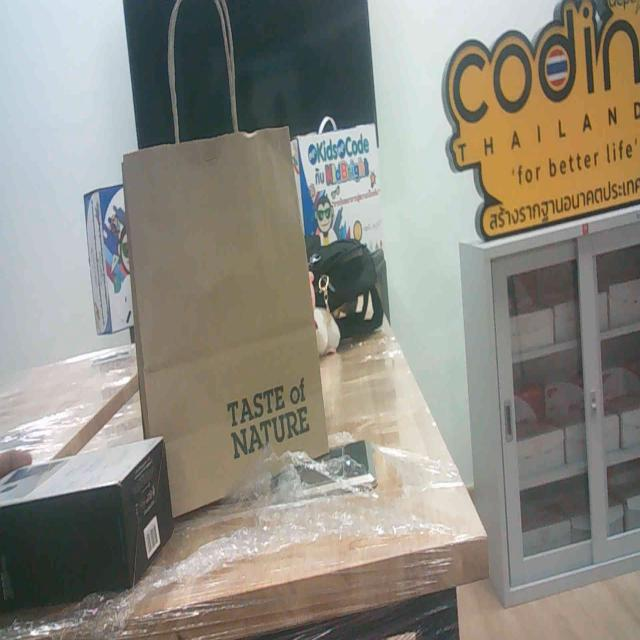bag: (125, 147, 336, 474)
